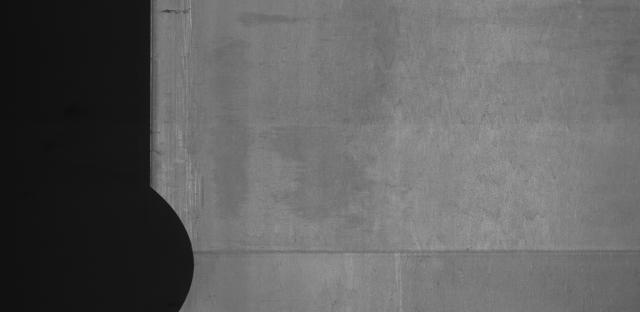welding_line: (177, 242, 636, 264)
